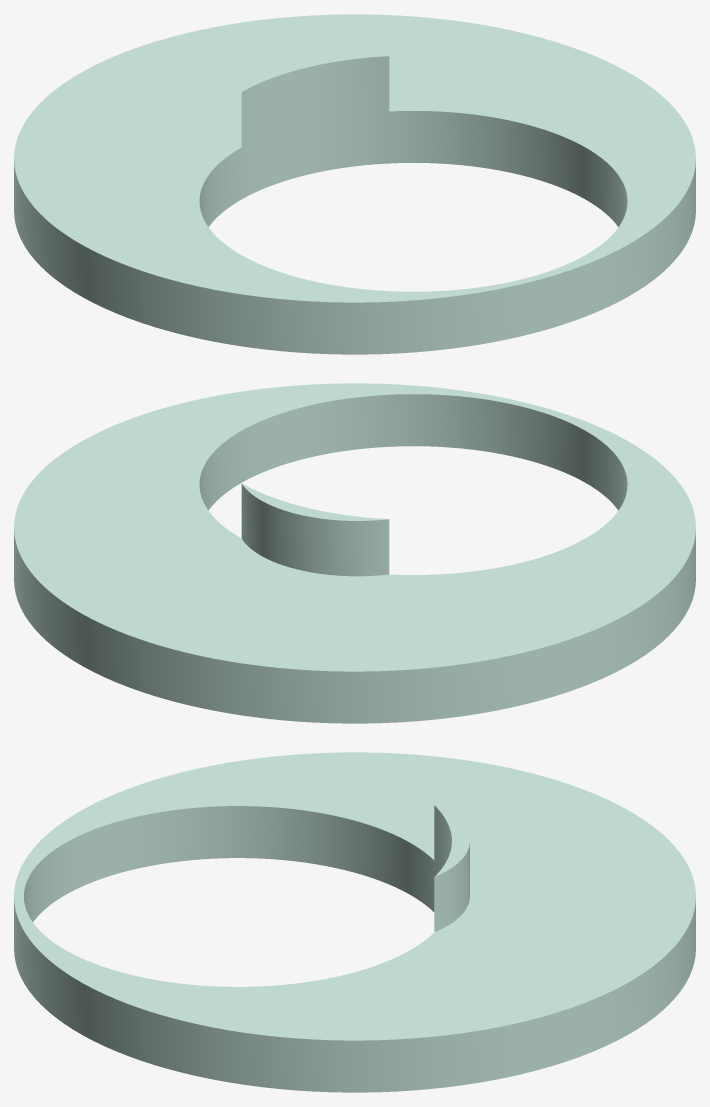
The picture shows the model from 3 angles, top to bottom: view 1: azimuth 30°, elevation 25°; view 2: azimuth 150°, elevation 25°; view 3: azimuth 270°, elevation 25°; orthographic projection.
Parts seen in each view (by area): view 1: Renderer Node; view 2: Renderer Node; view 3: Renderer Node.
Part boxes in pixels (x1,y1,x2,y2): Renderer Node: (14, 14, 695, 354); Renderer Node: (14, 383, 695, 723); Renderer Node: (14, 752, 695, 1092).
Size of the model in its own units: 1.48 by 0.2578 by 1.48.
